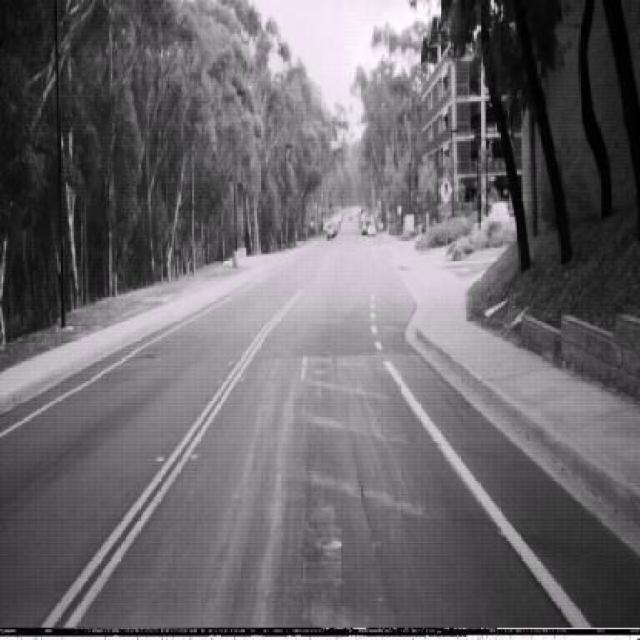pedestrianCrossing: (438, 176, 454, 207)
